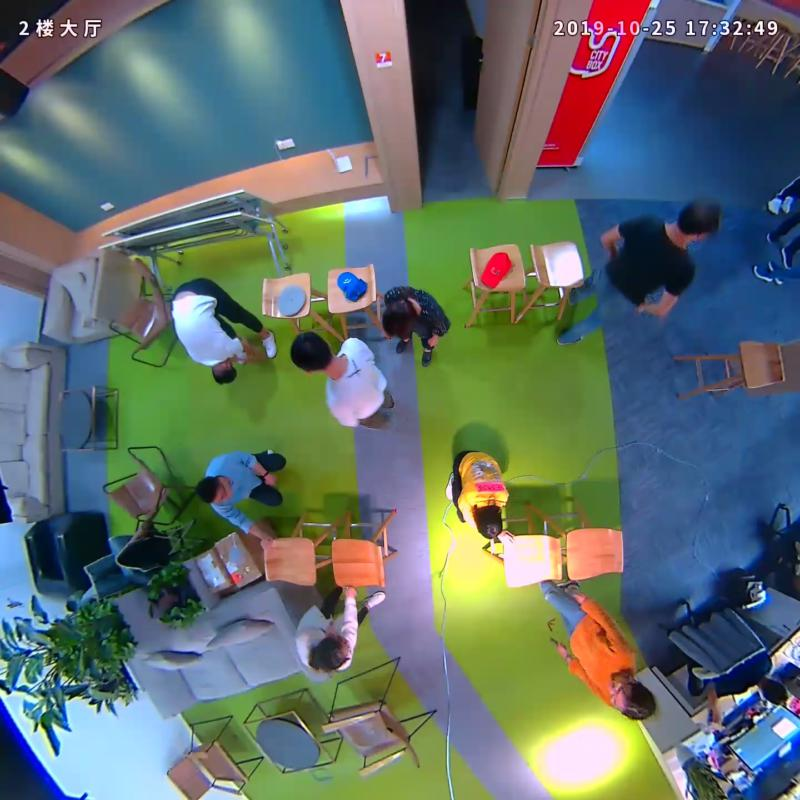head: (667, 196, 729, 247), (284, 326, 340, 381), (604, 674, 663, 726), (377, 293, 429, 342), (303, 628, 354, 672), (467, 503, 512, 542), (190, 473, 237, 507), (201, 354, 245, 389)
